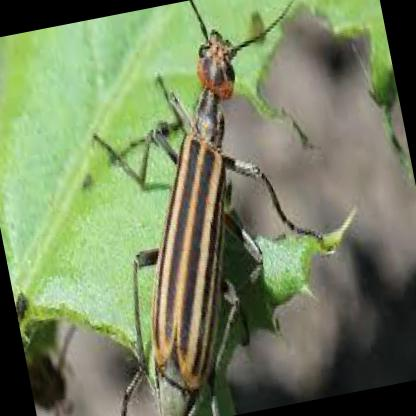blister beetle: (138, 0, 326, 393)
